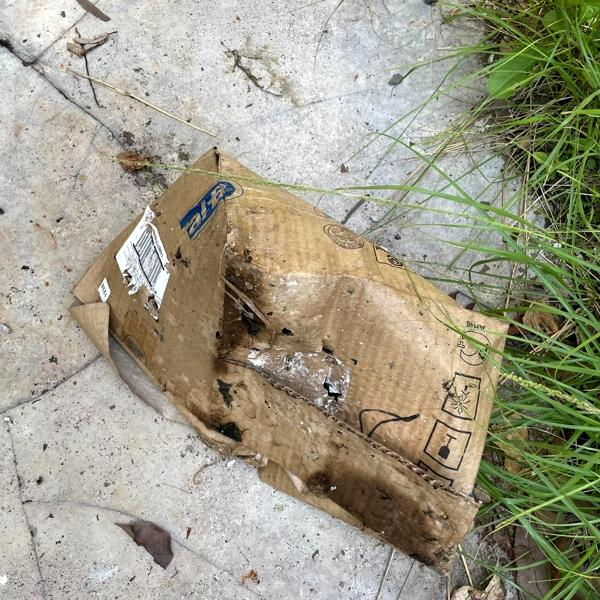Organik: (69, 164, 519, 560)
